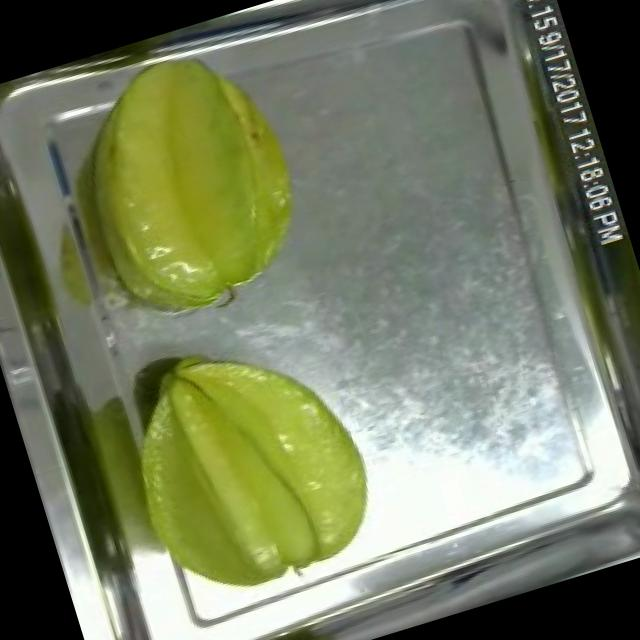fruit: (91, 304, 399, 624), (35, 22, 333, 346)
